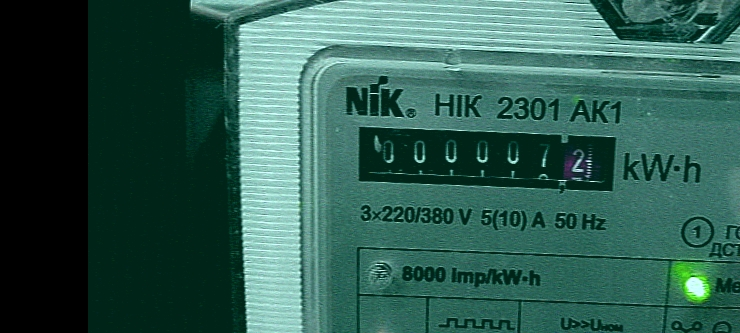0: (380, 135, 399, 163), (475, 135, 493, 164), (444, 134, 461, 163), (413, 135, 430, 163), (507, 137, 523, 166)
2: (571, 146, 589, 173)
7: (537, 138, 554, 169)
screen: (346, 112, 630, 203)
